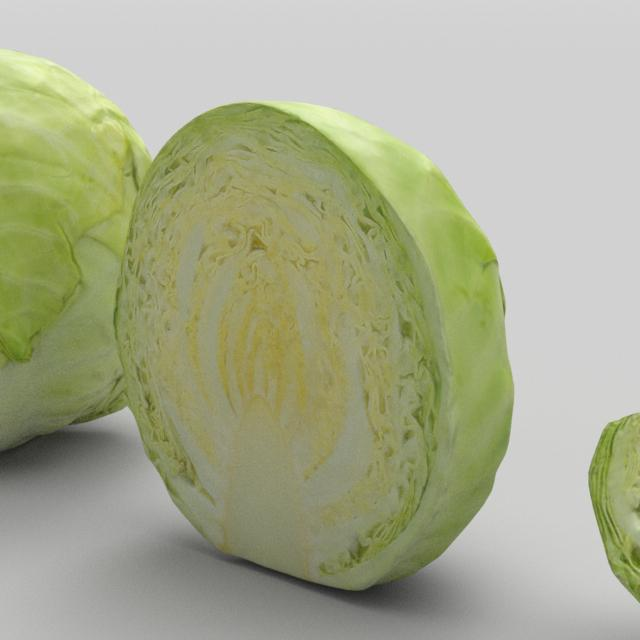cabbage: (103, 89, 513, 603), (0, 46, 189, 466)
